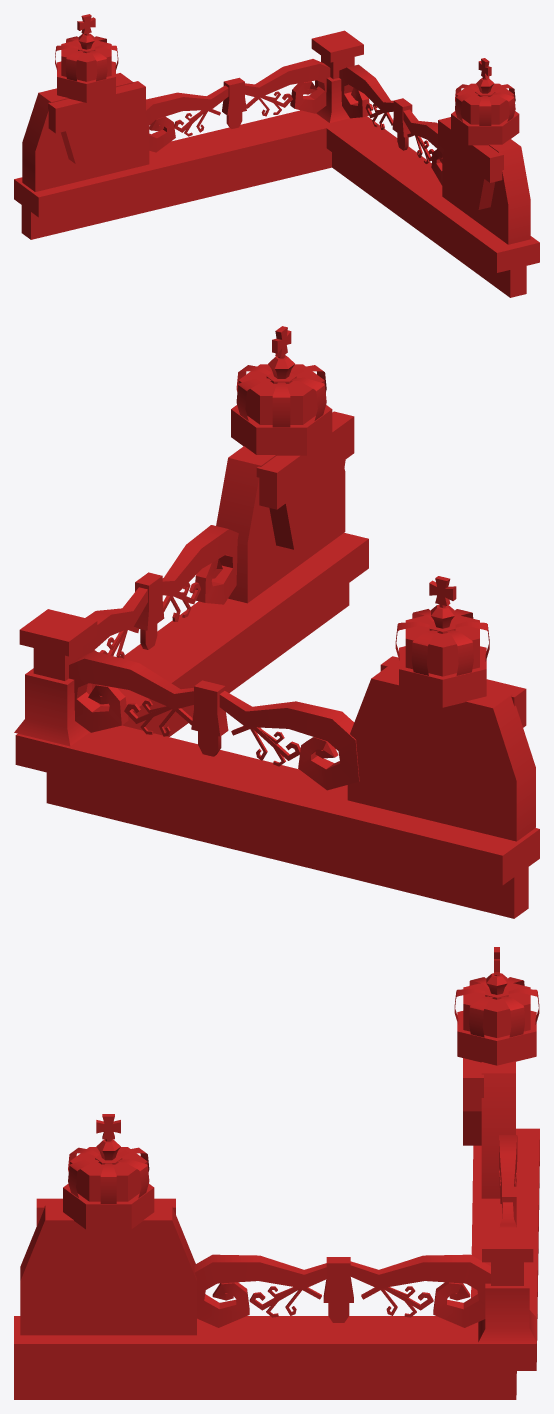
Rendered from palace_roof_top_statue_B.fbx.
The picture shows the model from 3 angles, top to bottom: view 1: azimuth 30°, elevation 25°; view 2: azimuth 150°, elevation 25°; view 3: azimuth 270°, elevation 25°; orthographic projection. The views are drawn at different scales.
Parts seen in each view (by area): view 1: roof_top_statue_B; view 2: roof_top_statue_B; view 3: roof_top_statue_B.
Boxes of the visible parts, x1,y1,x2,y2 form: roof_top_statue_B: (14,14,539,297); roof_top_statue_B: (14,326,539,918); roof_top_statue_B: (14,947,539,1399).
Bounding box in the file's own units: 182 × 108 × 183.
